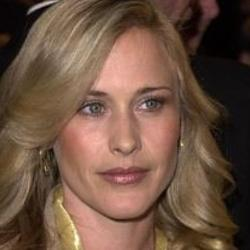face: (5, 1, 233, 233)
